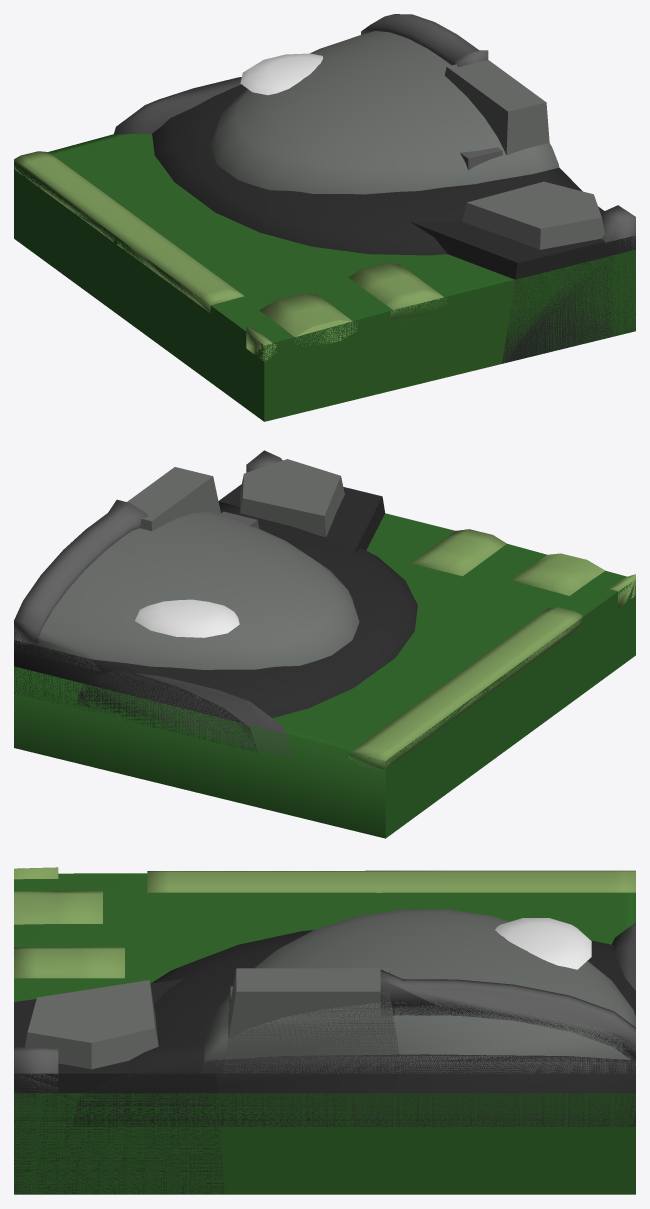
The model's file is newshj-161-f3.glb.
The picture shows the model from 3 angles, top to bottom: view 1: azimuth 30°, elevation 25°; view 2: azimuth 150°, elevation 25°; view 3: azimuth 270°, elevation 25°; orthographic projection. The views are drawn at different scales.
Parts seen in each view (by area): view 1: newshj-161-f3; view 2: newshj-161-f3; view 3: newshj-161-f3.
Boxes of the visible parts, x1=… form: newshj-161-f3: x1=14, y1=14, x2=635, y2=421; newshj-161-f3: x1=14, y1=450, x2=635, y2=838; newshj-161-f3: x1=14, y1=867, x2=635, y2=1194.
Size of the model in its own units: 2 by 0.8899 by 2.33.
